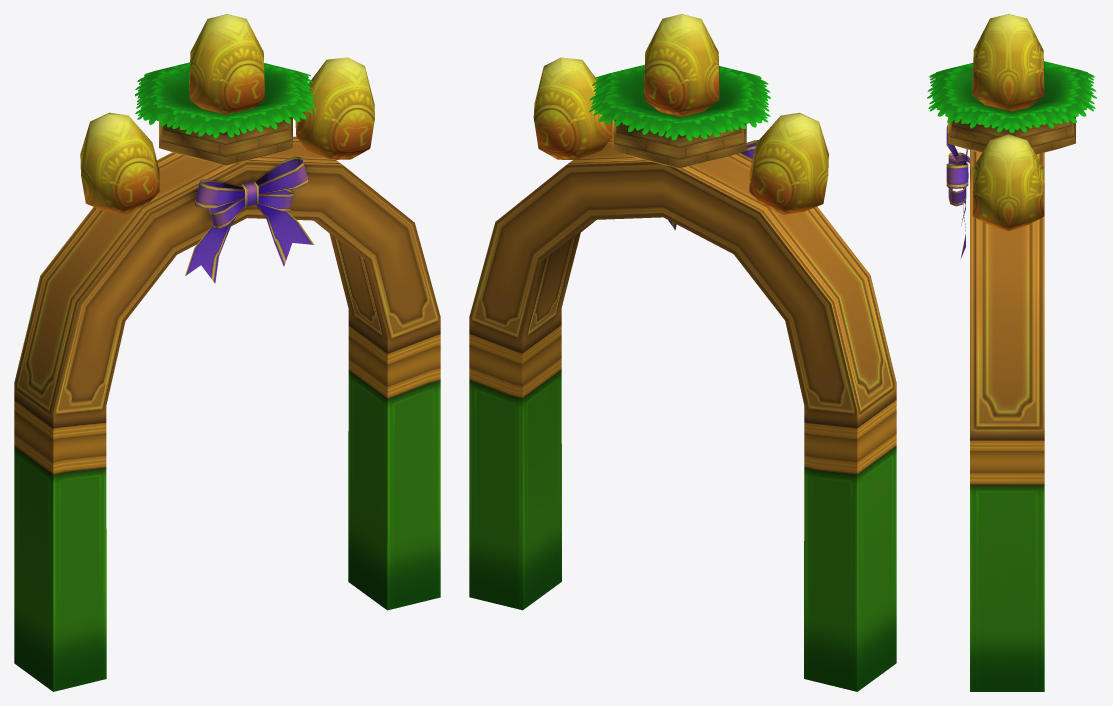
The model's file is Easter_gate.FBX.
3 renders of one model, left to right at view 1: azimuth 30°, elevation 25°; view 2: azimuth 150°, elevation 25°; view 3: azimuth 270°, elevation 25°, orthographic. The views are drawn at different scales.
Parts seen in each view (by area): view 1: Easter_gate; view 2: Easter_gate; view 3: Easter_gate.
Boxes of the visible parts, left/top/right/bottom form: Easter_gate: left=14, top=14, right=440, bottom=691; Easter_gate: left=469, top=14, right=896, bottom=691; Easter_gate: left=927, top=14, right=1096, bottom=691.
Bounding box in the file's own units: 2.03 × 3.08 × 0.8276.
